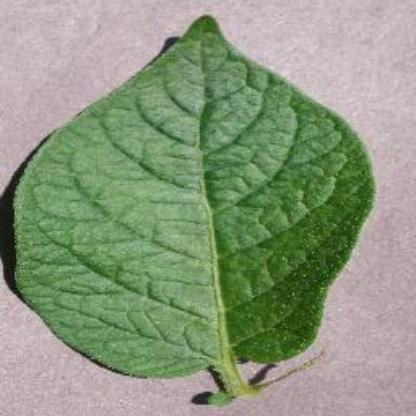Healthy-plant: (0, 13, 380, 406)
